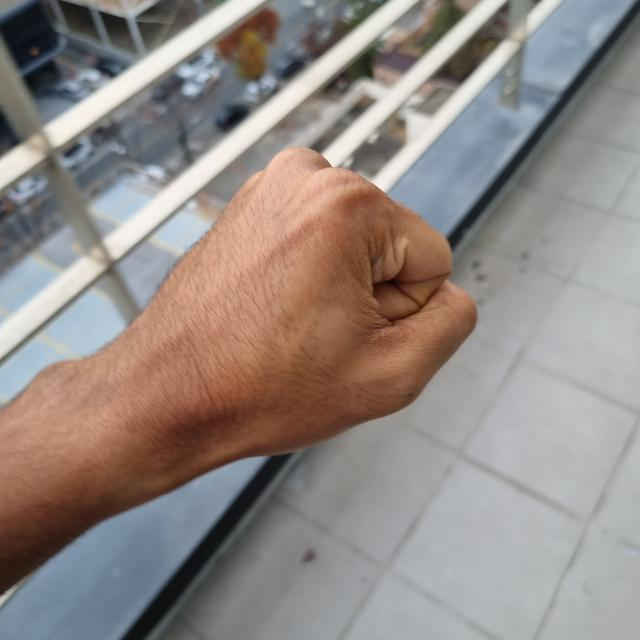Rock: (102, 146, 478, 461)
